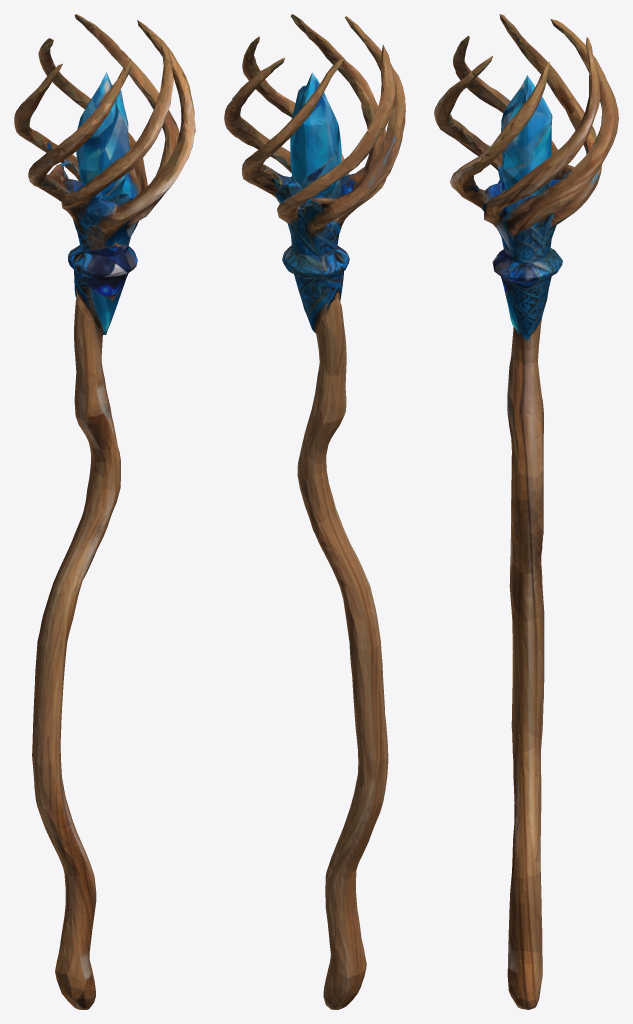
The model's file is Mystic_Antler_Staff_0410013740_texture.fbx.
3 renders of one model, left to right at view 1: azimuth 30°, elevation 25°; view 2: azimuth 150°, elevation 25°; view 3: azimuth 270°, elevation 25°, orthographic.
Visible parts, largest first — view 1: temp; view 2: temp; view 3: temp.
Boxes of the visible parts, left/top/right/bottom form: temp: left=14, top=14, right=195, bottom=1009; temp: left=224, top=14, right=405, bottom=1009; temp: left=434, top=14, right=618, bottom=1009.
Bounding box in the file's own units: 33.39 × 200 × 34.05.
Materials: 1 (1 with a texture image).
